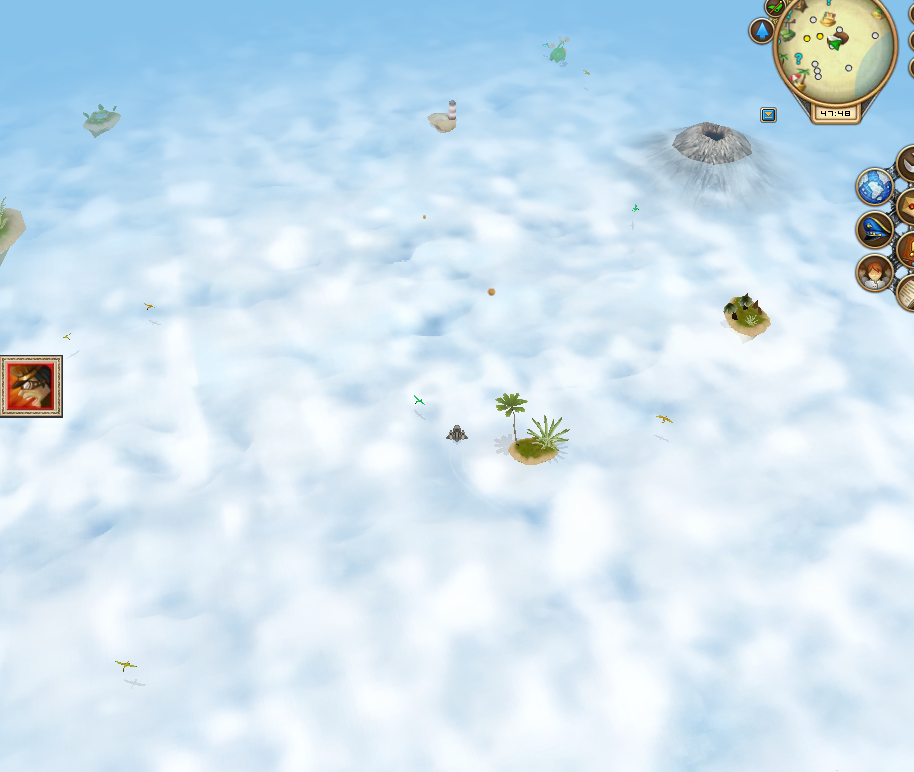coconut: (484, 282, 497, 298), (419, 210, 431, 221)
dandelion-full: (540, 32, 574, 66)
palm: (492, 387, 574, 469)
